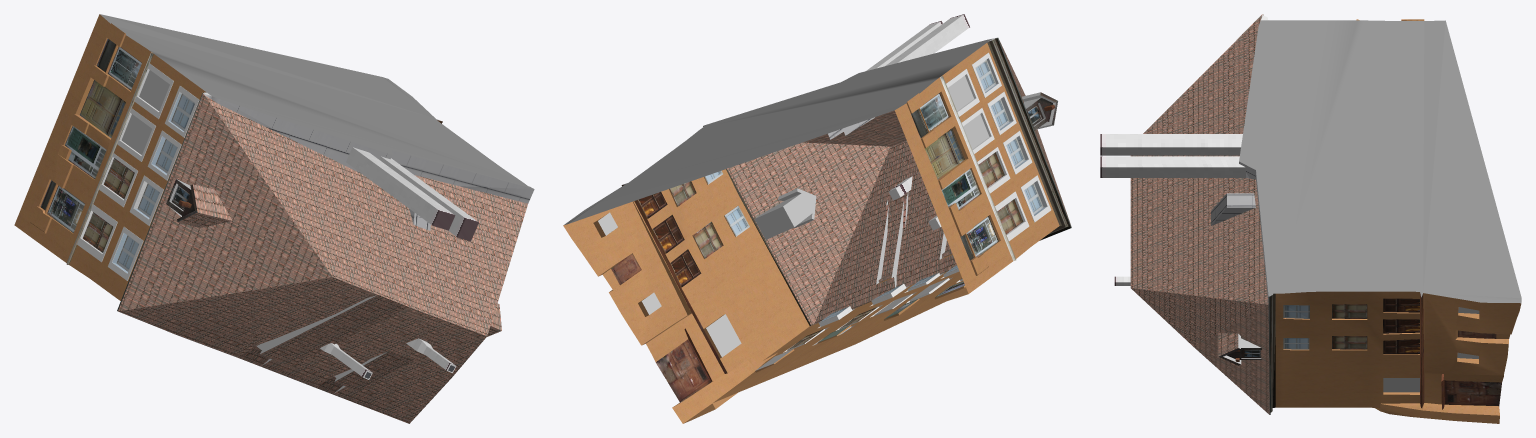
Rendered from Pikk_34.obj.
The picture shows the model from 3 angles, left to right: view 1: azimuth 30°, elevation 25°; view 2: azimuth 150°, elevation 25°; view 3: azimuth 270°, elevation 25°; orthographic projection. The views are drawn at different scales.
Parts seen in each view (by area): view 1: Pikk_34; view 2: Pikk_34; view 3: Pikk_34.
Part boxes in pixels (bbox=[...]): Pikk_34: bbox=[14, 14, 534, 423]; Pikk_34: bbox=[563, 14, 1071, 423]; Pikk_34: bbox=[1100, 14, 1521, 423].
Bounding box in the file's own units: 22.13 × 19.38 × 22.98.
